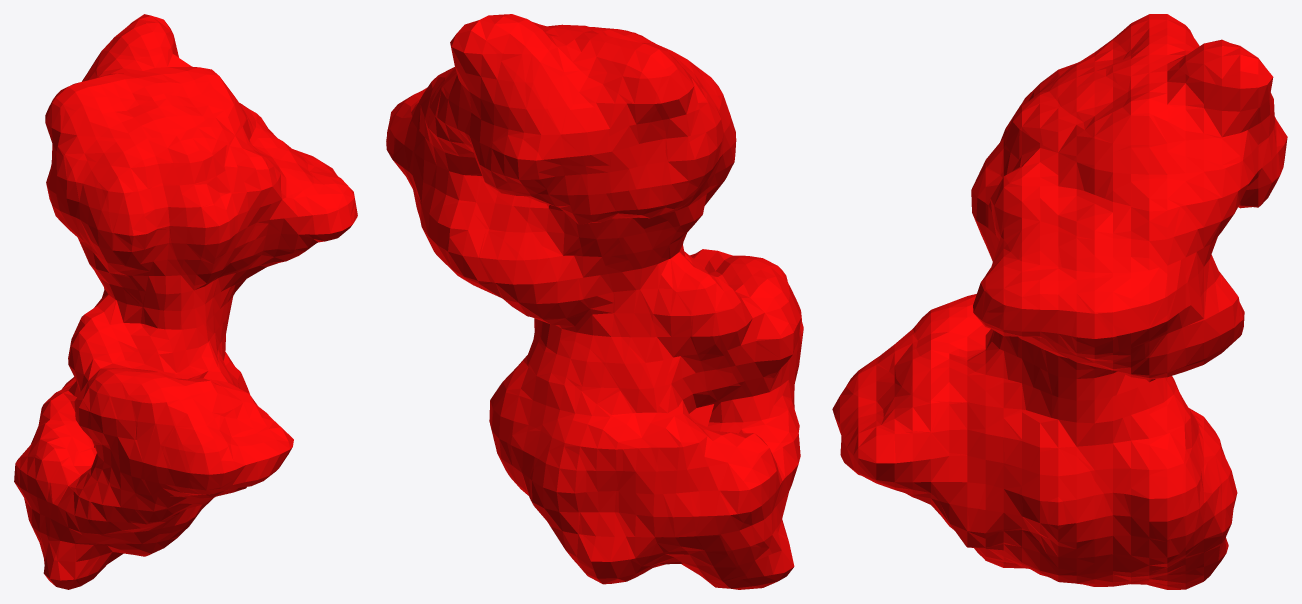
Rendered from cmoB_coarse.dae.
3 renders of one model, left to right at view 1: azimuth 30°, elevation 25°; view 2: azimuth 150°, elevation 25°; view 3: azimuth 270°, elevation 25°, orthographic. The views are drawn at different scales.
Visible parts, largest first — view 1: cmoB; view 2: cmoB; view 3: cmoB.
Boxes of the visible parts, bbox=[...] form: cmoB: bbox=[14, 14, 357, 589]; cmoB: bbox=[386, 14, 803, 589]; cmoB: bbox=[832, 14, 1287, 589].
Bounding box in the file's own units: 71.28 × 106 × 70.85.
